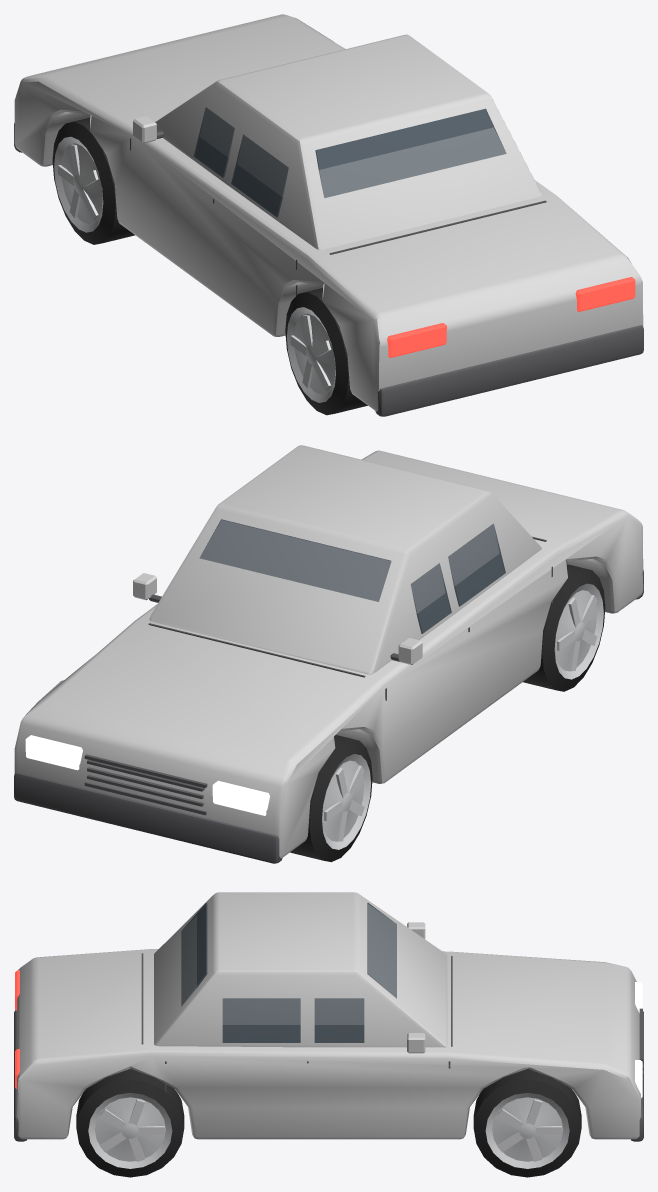
The model's file is car.glb.
3 views of the same model, one above another, from view 1: azimuth 30°, elevation 25°; view 2: azimuth 150°, elevation 25°; view 3: azimuth 270°, elevation 25° (orthographic). The views are drawn at different scales.
Parts seen in each view (by area): view 1: Body, Cabin, Windows, Bumpers, Wheel_RL, Wheel_FL, Brakelights, Mirrors; view 2: Body, Cabin, Windows, Bumpers, Wheel_FL, Wheel_RL, Grille, Headlights, Mirrors; view 3: Body, Cabin, Windows, Wheel_FR, Wheel_RR, Bumpers, Mirrors, Headlights.
Boxes of the visible parts, <box> form: Body: <box>14,14,643,411</box>; Cabin: <box>155,34,541,249</box>; Windows: <box>193,107,506,217</box>; Bumpers: <box>14,123,643,416</box>; Wheel_RL: <box>285,288,367,415</box>; Wheel_FL: <box>52,117,134,244</box>; Brakelights: <box>387,277,635,357</box>; Mirrors: <box>133,116,164,143</box>; Body: <box>14,450,643,858</box>; Cabin: <box>149,445,541,674</box>; Windows: <box>200,519,505,633</box>; Bumpers: <box>14,570,643,863</box>; Wheel_FL: <box>290,735,372,862</box>; Wheel_RL: <box>523,564,605,691</box>; Grille: <box>84,754,207,815</box>; Headlights: <box>25,735,269,815</box>; Mirrors: <box>133,573,422,664</box>; Body: <box>17,949,640,1139</box>; Cabin: <box>154,892,447,1047</box>; Windows: <box>181,903,396,1042</box>; Wheel_FR: <box>473,1069,581,1177</box>; Wheel_RR: <box>76,1069,184,1177</box>; Bumpers: <box>14,1010,643,1141</box>; Mirrors: <box>407,922,425,1053</box>; Headlights: <box>635,982,642,1097</box>.
Bounding box in the file's own units: 1.95 × 1.5 × 4.44.
